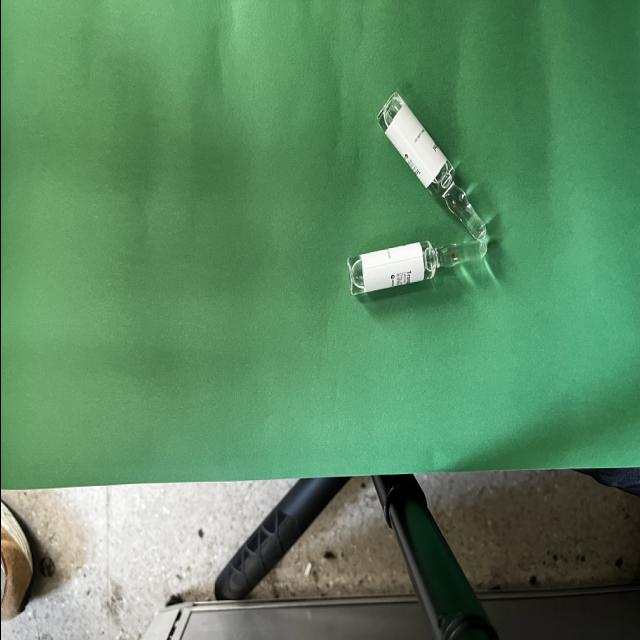Ampoules: (376, 93, 484, 241), (346, 241, 487, 295)
